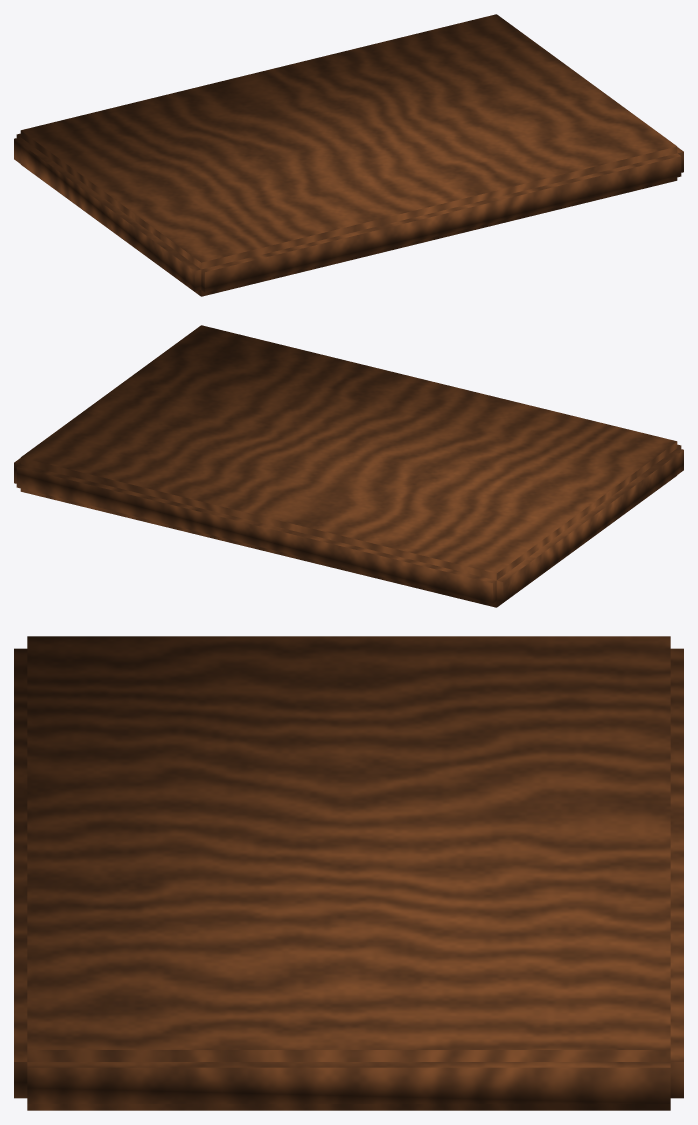
Rendered from cutting_board.glb.
3 views of the same model, one above another, from view 1: azimuth 30°, elevation 25°; view 2: azimuth 150°, elevation 25°; view 3: azimuth 270°, elevation 25° (orthographic). The views are drawn at different scales.
Parts seen in each view (by area): view 1: CuttingBoard; view 2: CuttingBoard; view 3: CuttingBoard.
Boxes of the visible parts, left/top/right/bottom form: CuttingBoard: left=14, top=14, right=683, bottom=296; CuttingBoard: left=14, top=325, right=683, bottom=607; CuttingBoard: left=14, top=636, right=683, bottom=1110.
Bounding box in the file's own units: 0.3 × 0.02 × 0.2.
Materials: 1 (1 with a texture image).
